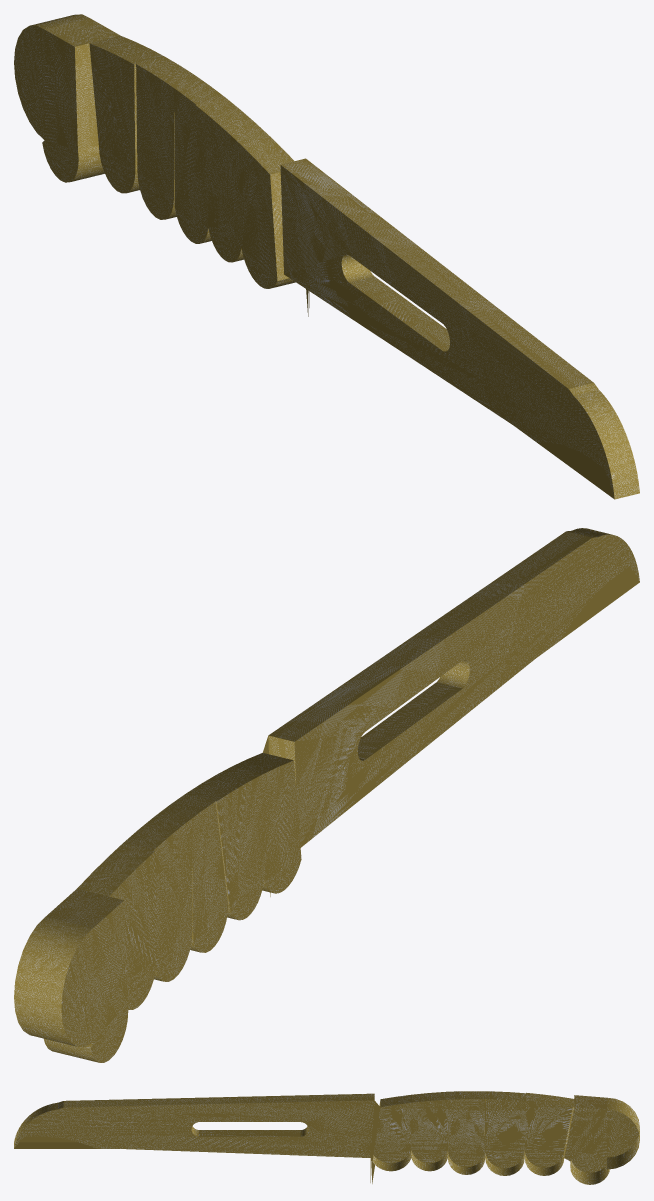
File: model_align.obj
The picture shows the model from 3 angles, top to bottom: view 1: azimuth 30°, elevation 25°; view 2: azimuth 150°, elevation 25°; view 3: azimuth 270°, elevation 25°; orthographic projection. The views are drawn at different scales.
Parts seen in each view (by area): view 1: mesh1_mesh1-geometry; view 2: mesh1_mesh1-geometry; view 3: mesh1_mesh1-geometry.
Part boxes in pixels (box(x1,y1,x2,y2)): mesh1_mesh1-geometry: box(14, 14, 639, 499); mesh1_mesh1-geometry: box(14, 528, 639, 1062); mesh1_mesh1-geometry: box(14, 1091, 639, 1184).
Size of the model in its own units: 0.0107 by 0.0364 by 0.2353.
